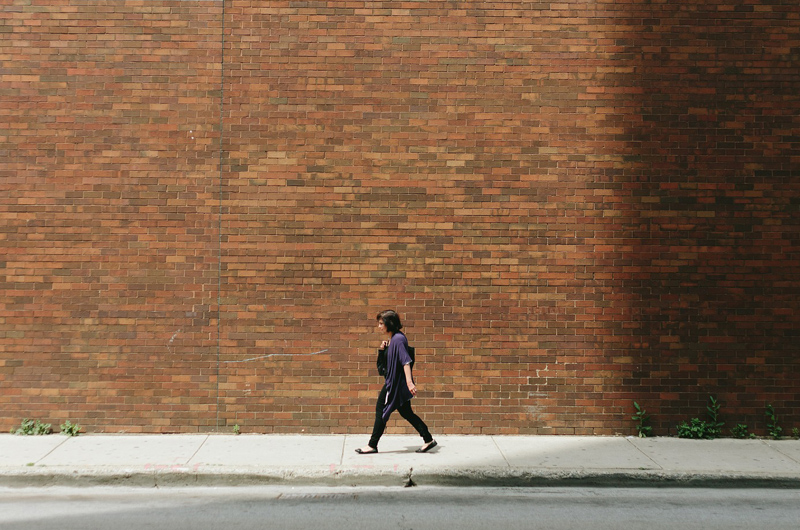Person: (356, 309, 443, 460)
